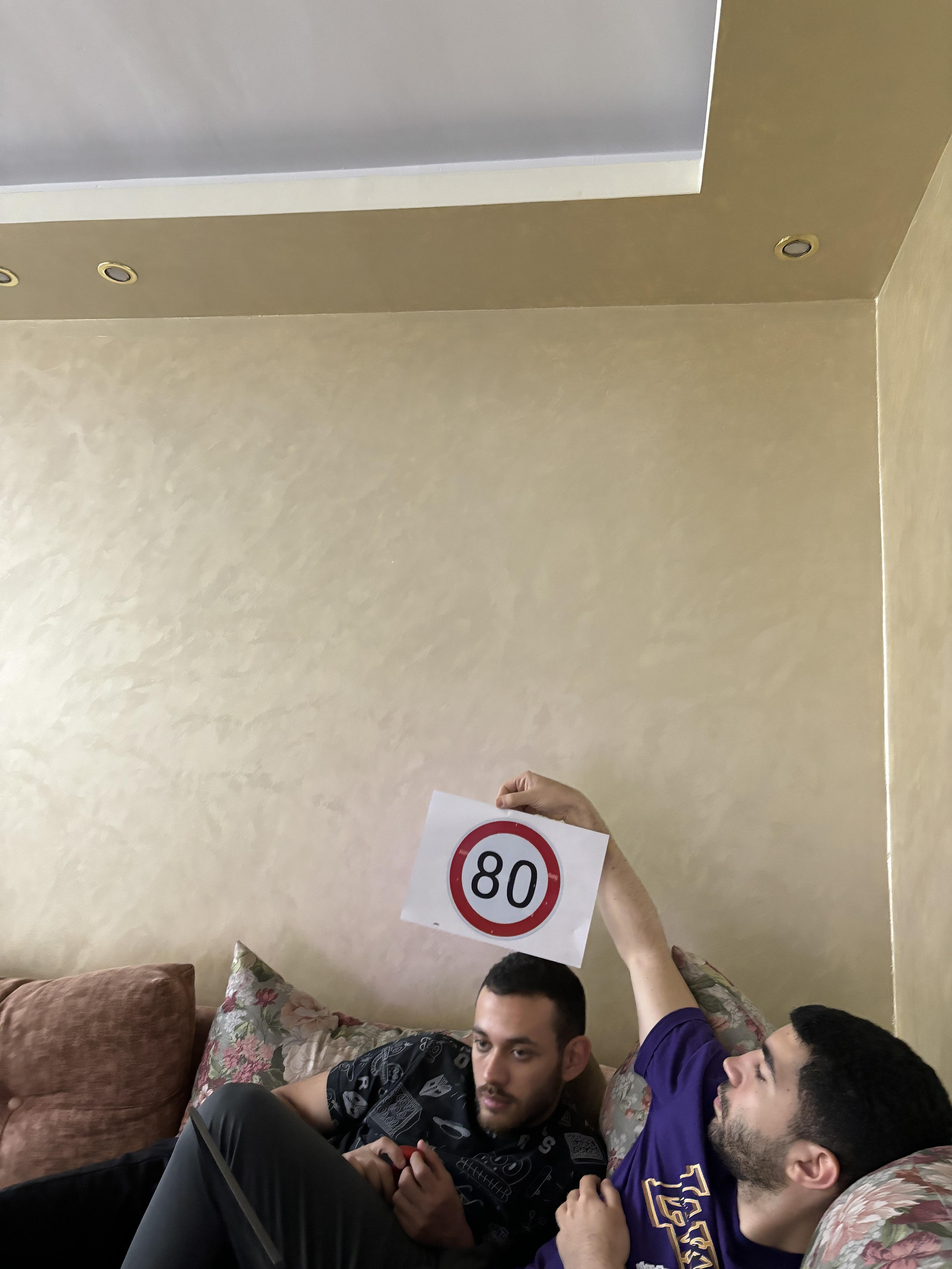80-Speed: (444, 815, 564, 941)
